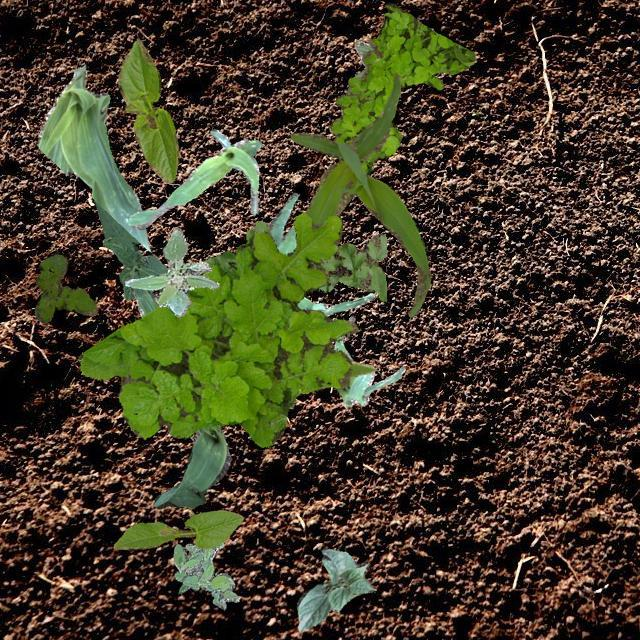crop: (290, 72, 430, 316), (130, 286, 230, 508), (35, 64, 149, 250), (128, 128, 260, 228), (270, 192, 374, 316), (118, 38, 178, 182), (93, 198, 167, 300), (296, 546, 374, 630), (332, 316, 403, 406), (112, 508, 242, 548), (298, 360, 374, 392), (354, 40, 374, 76)
weed: (77, 212, 357, 446), (328, 1, 474, 172), (204, 220, 386, 300), (124, 227, 218, 316), (172, 542, 238, 608), (34, 254, 96, 322)
